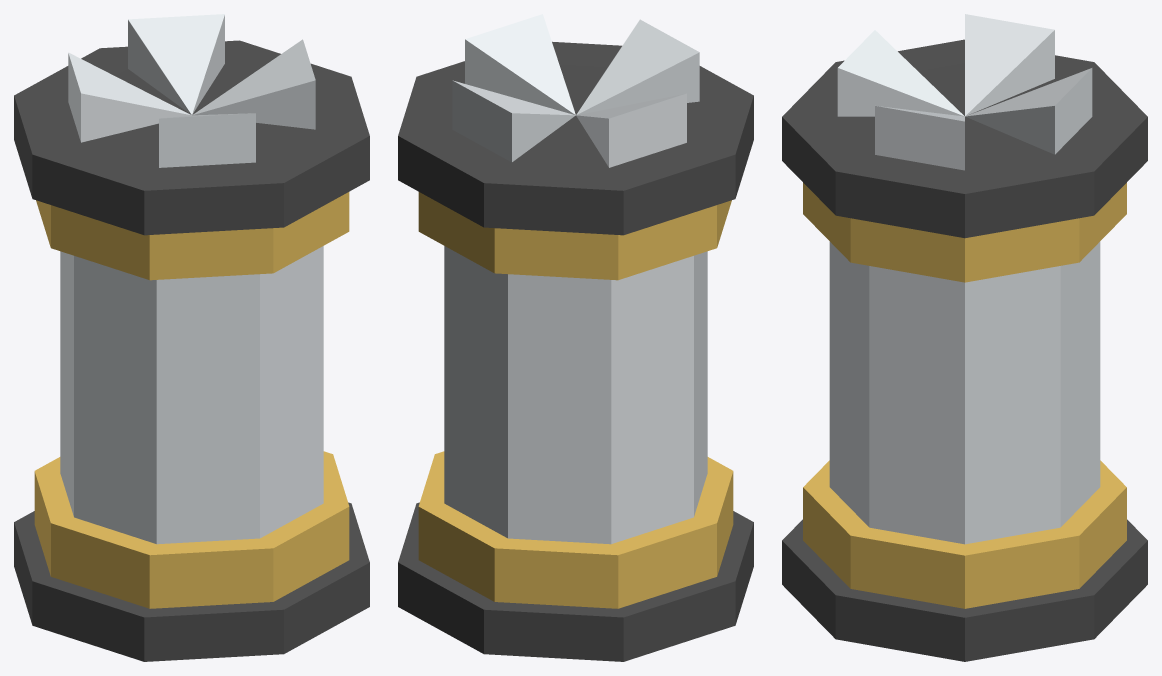
Rendered from altar.fbx.
The picture shows the model from 3 angles, left to right: view 1: azimuth 30°, elevation 25°; view 2: azimuth 150°, elevation 25°; view 3: azimuth 270°, elevation 25°; orthographic projection.
Parts seen in each view (by area): view 1: Cylinder001; view 2: Cylinder001; view 3: Cylinder001.
Part boxes in pixels (x1=…): Cylinder001: x1=14, y1=14, x2=369, y2=661; Cylinder001: x1=398, y1=14, x2=753, y2=661; Cylinder001: x1=782, y1=14, x2=1147, y2=661.
Size of the model in its own units: 56.54 by 88.14 by 56.54.
